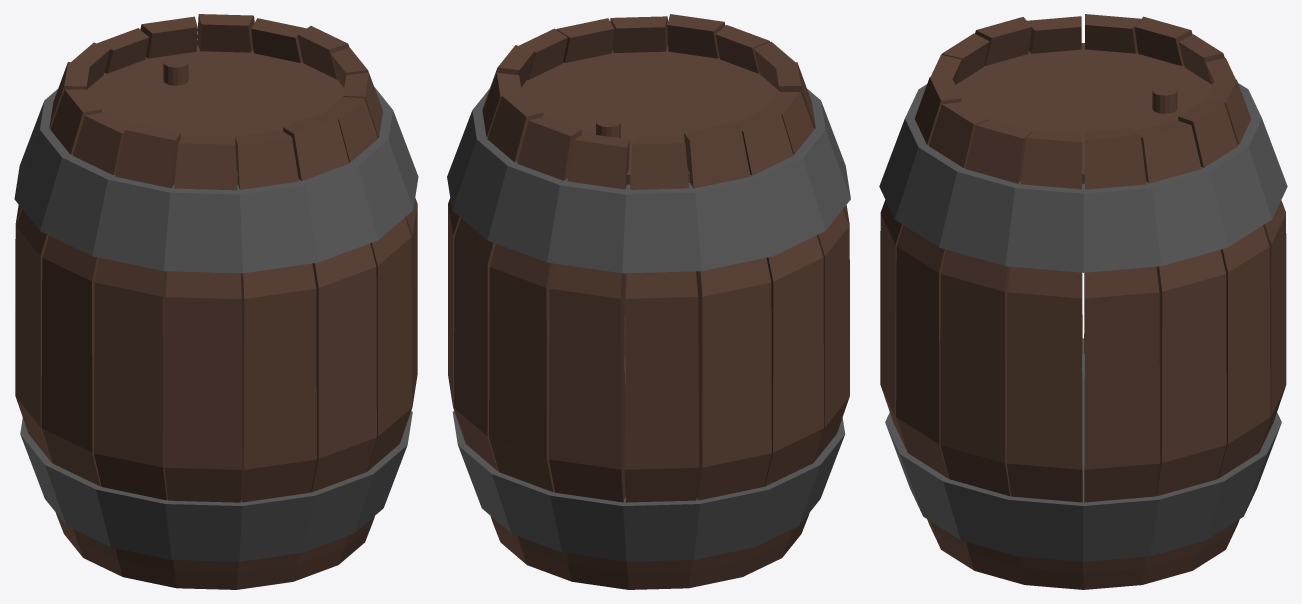
File: Barrel.fbx
The picture shows the model from 3 angles, left to right: view 1: azimuth 30°, elevation 25°; view 2: azimuth 150°, elevation 25°; view 3: azimuth 270°, elevation 25°; orthographic projection.
Visible parts, largest first — view 1: Cylinder; view 2: Cylinder; view 3: Cylinder.
Boxes of the visible parts, bbox=[...] form: Cylinder: bbox=[14, 14, 418, 589]; Cylinder: bbox=[447, 14, 850, 589]; Cylinder: bbox=[879, 14, 1287, 589].
Size of the model in its own units: 74.43 by 90.47 by 74.43.
